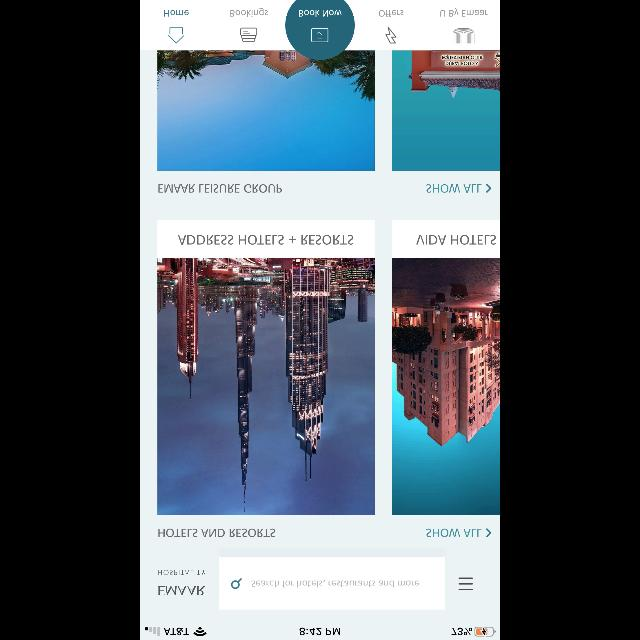icon: (168, 27, 184, 43), (312, 28, 328, 42), (459, 578, 473, 590), (232, 578, 242, 588), (486, 528, 492, 536), (486, 184, 492, 192)
image: (158, 258, 374, 514), (392, 258, 500, 514), (158, 51, 374, 171), (392, 51, 500, 171), (453, 28, 475, 44), (240, 28, 258, 42), (386, 27, 396, 43)
input: (219, 557, 445, 609)
text: (178, 235, 354, 245), (251, 579, 419, 587), (158, 184, 282, 192), (159, 528, 275, 536), (416, 236, 496, 244), (426, 528, 482, 536), (426, 185, 482, 193), (440, 8, 488, 16), (230, 8, 268, 18), (159, 586, 205, 594), (298, 10, 342, 18), (158, 570, 206, 574), (165, 10, 189, 16), (379, 10, 403, 16)
uppertaskbar: (140, 626, 500, 640)
